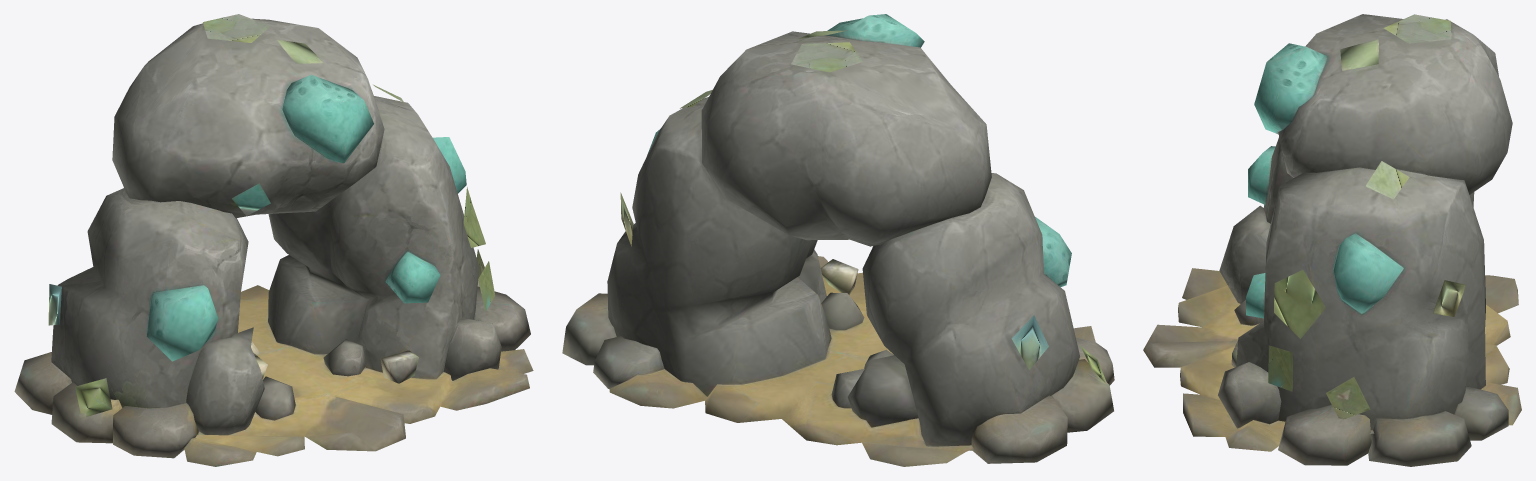
File: Coralstone_Arch.glb
3 renders of one model, left to right at view 1: azimuth 30°, elevation 25°; view 2: azimuth 150°, elevation 25°; view 3: azimuth 270°, elevation 25°, orthographic. The views are drawn at different scales.
Visible parts, largest first — view 1: mesh_node; view 2: mesh_node; view 3: mesh_node.
Boxes of the visible parts, x1,y1,x2,y2 form: mesh_node: [14, 14, 533, 466]; mesh_node: [562, 14, 1114, 466]; mesh_node: [1143, 14, 1521, 466].
Bounding box in the file's own units: 1 × 0.6777 × 0.7227.
1 material, 1 textured.
